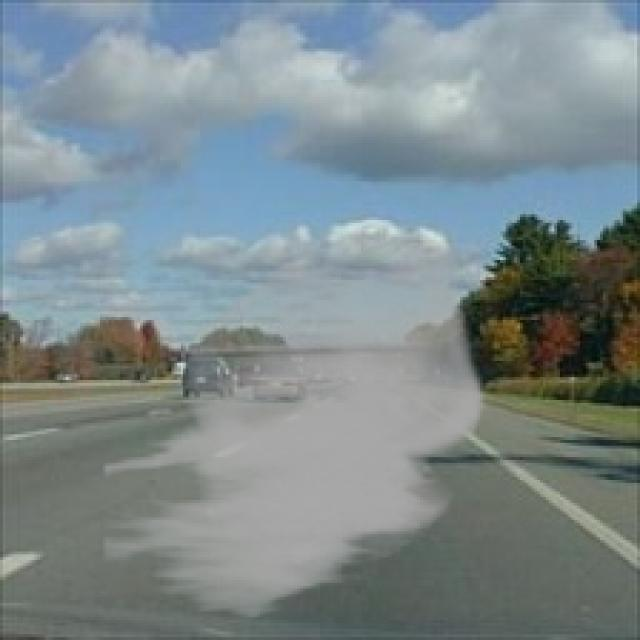Smoke: (100, 240, 486, 623)
